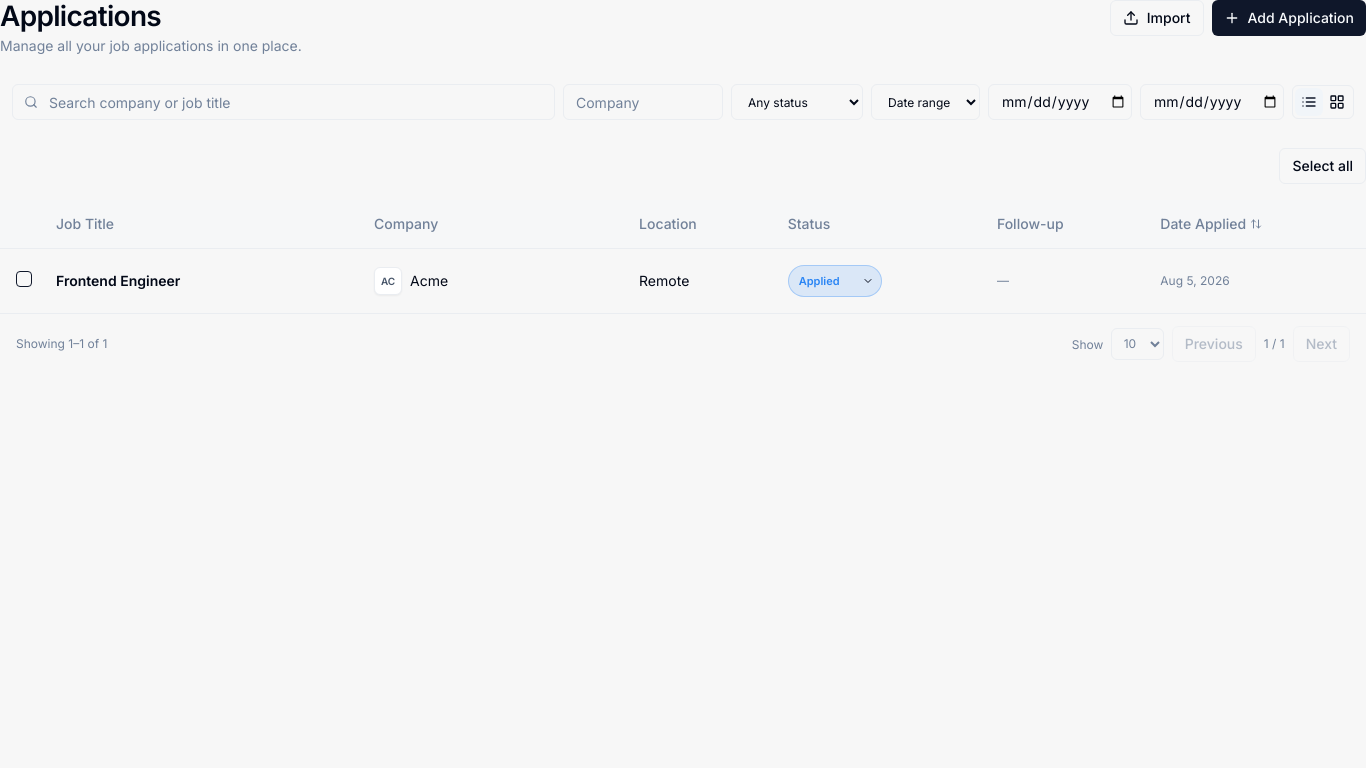
Test: ApplicationsList › keeps undo and drawer history current after an inline save
The width and height of the screenshot is (1366, 768).
Select "Interview" in the dropdown named "Change status" at (835, 280), box [788, 264, 882, 296]
Click the text "Frontend Engineer" at (118, 280), box [40, 248, 358, 312]
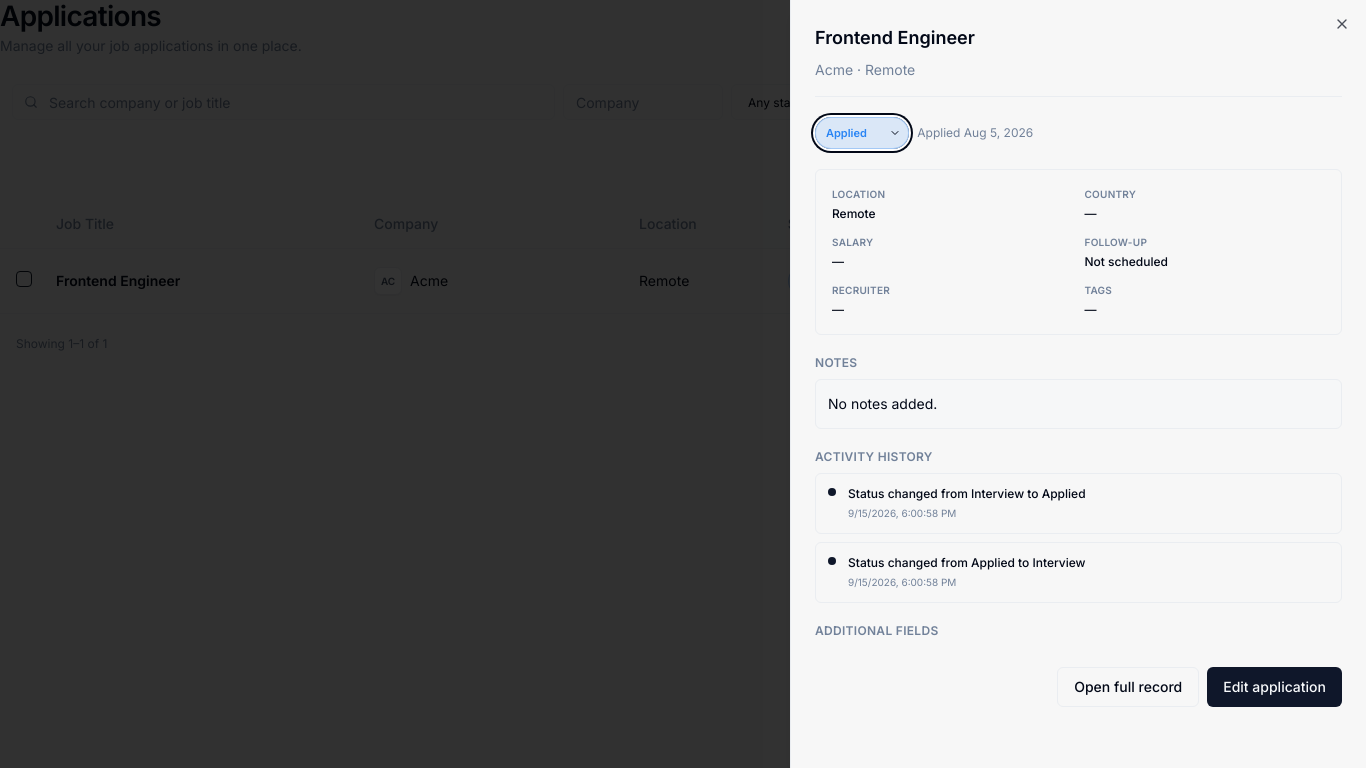
Expected: the text "Status changed from Interview to Applied" is shown, [848, 486, 1086, 502]
Expected: the text "Status changed from Applied to Interview" is shown, [848, 555, 1086, 571]
